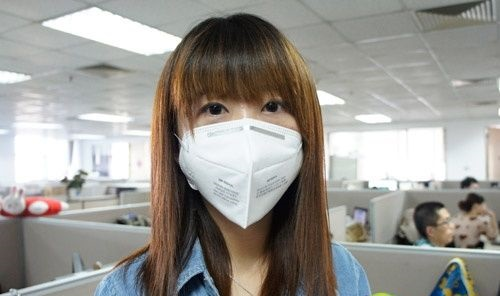face: (179, 63, 308, 230)
face_mask: (426, 211, 455, 241)
